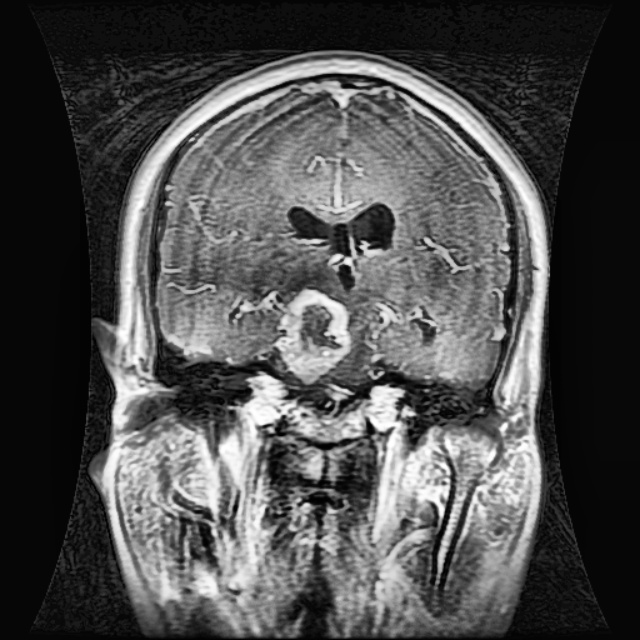Meningioma: (277, 288, 352, 385)
